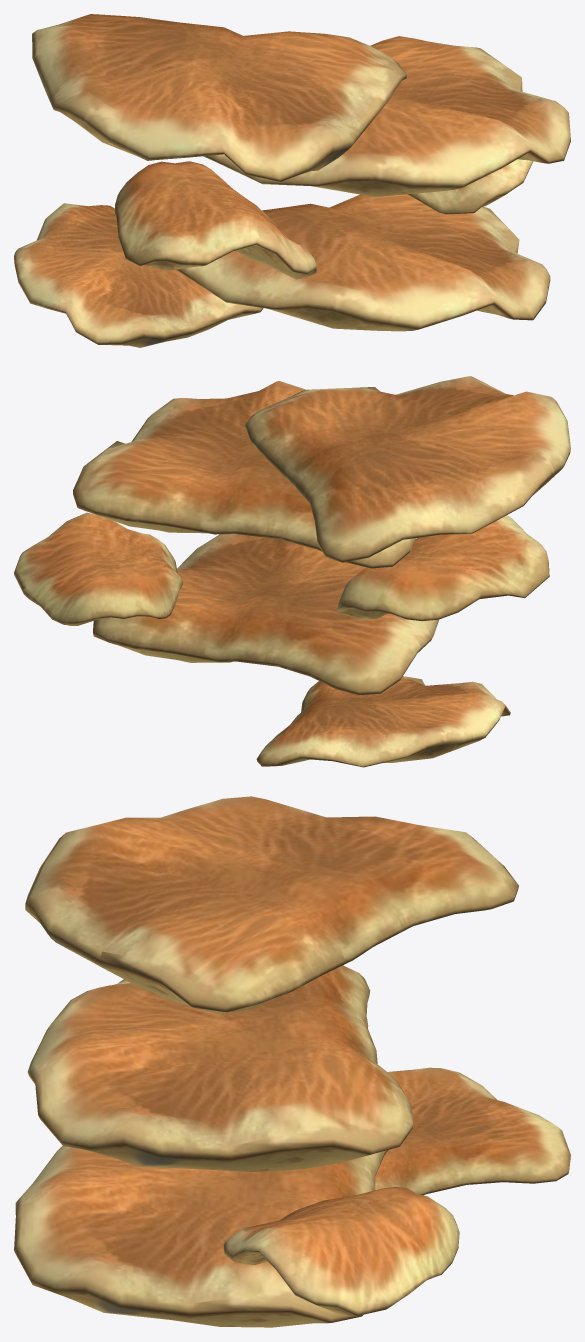
The model's file is nat_mushroom_laetiporus.glb.
The picture shows the model from 3 angles, top to bottom: view 1: azimuth 30°, elevation 25°; view 2: azimuth 150°, elevation 25°; view 3: azimuth 270°, elevation 25°; orthographic projection. The views are drawn at different scales.
Visible parts, largest first — view 1: Mushroom_Laetiporus; view 2: Mushroom_Laetiporus; view 3: Mushroom_Laetiporus.
Part boxes in pixels (box(x1,y1,x2,y2)): Mushroom_Laetiporus: box(14, 14, 570, 347); Mushroom_Laetiporus: box(14, 376, 570, 767); Mushroom_Laetiporus: box(14, 796, 570, 1327).
Size of the model in its own units: 1.37 by 0.767 by 1.1.
1 material, 1 textured.
